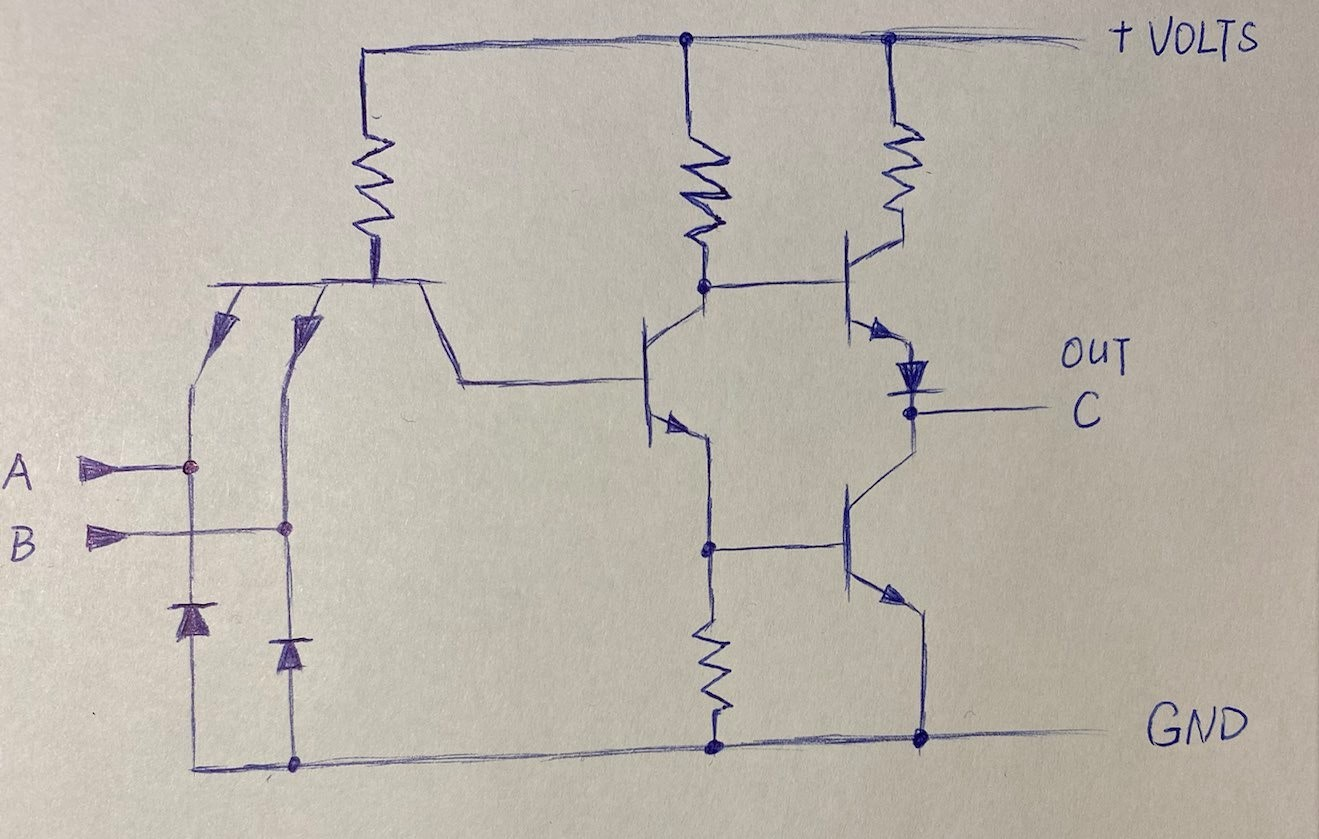crossover: (182, 522, 205, 544)
diode: (159, 590, 225, 646), (261, 625, 320, 682), (885, 356, 951, 401)
junction: (903, 719, 942, 758), (265, 510, 304, 544), (696, 731, 735, 764), (872, 20, 904, 56), (278, 749, 317, 778), (670, 21, 702, 55), (694, 533, 729, 564), (181, 749, 211, 784), (349, 34, 378, 67), (895, 401, 931, 427), (689, 269, 718, 298), (176, 454, 207, 480)
resistor: (674, 124, 739, 257), (349, 125, 405, 245), (879, 110, 930, 220), (689, 608, 738, 719)
terminal: (1042, 710, 1121, 749), (78, 513, 145, 557), (68, 444, 129, 488), (1039, 20, 1089, 62), (1015, 392, 1059, 418)
text: (1145, 5, 1262, 67), (1141, 690, 1252, 753), (1057, 326, 1139, 379), (1066, 387, 1117, 436), (1, 444, 35, 494), (6, 518, 40, 567), (1106, 13, 1135, 57)
transistor: (191, 265, 490, 393), (829, 444, 944, 626), (629, 303, 725, 454), (829, 223, 930, 351)
